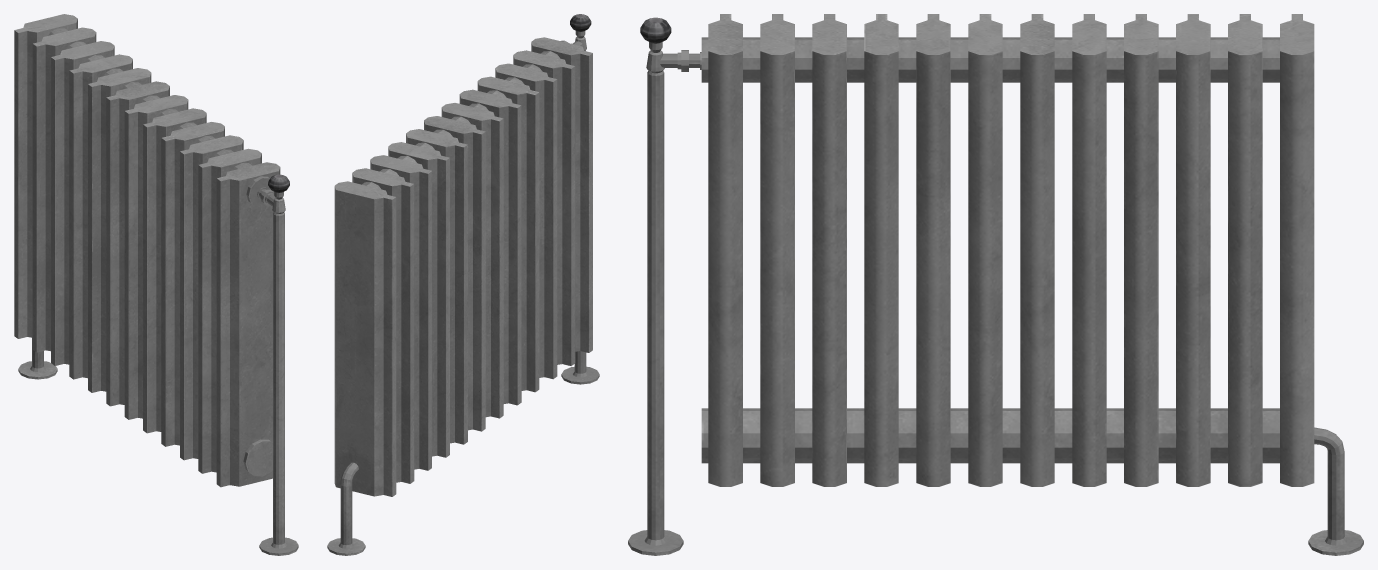
3 renders of one model, left to right at view 1: azimuth 30°, elevation 25°; view 2: azimuth 150°, elevation 25°; view 3: azimuth 270°, elevation 25°, orthographic. The views are drawn at different scales.
Parts seen in each view (by area): view 1: HeaterPipe4136; view 2: HeaterPipe4136; view 3: HeaterPipe4136.
Part boxes in pixels (left/top/right/bottom): HeaterPipe4136: left=14, top=14, right=298, bottom=555; HeaterPipe4136: left=327, top=14, right=599, bottom=555; HeaterPipe4136: left=628, top=14, right=1363, bottom=555.
Bounding box in the file's own units: 4.58 × 27.25 × 34.69.
Materials: 1 (1 with a texture image).
